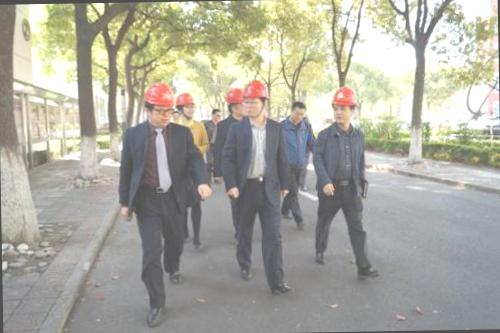no_helmet: (288, 98, 309, 123)
